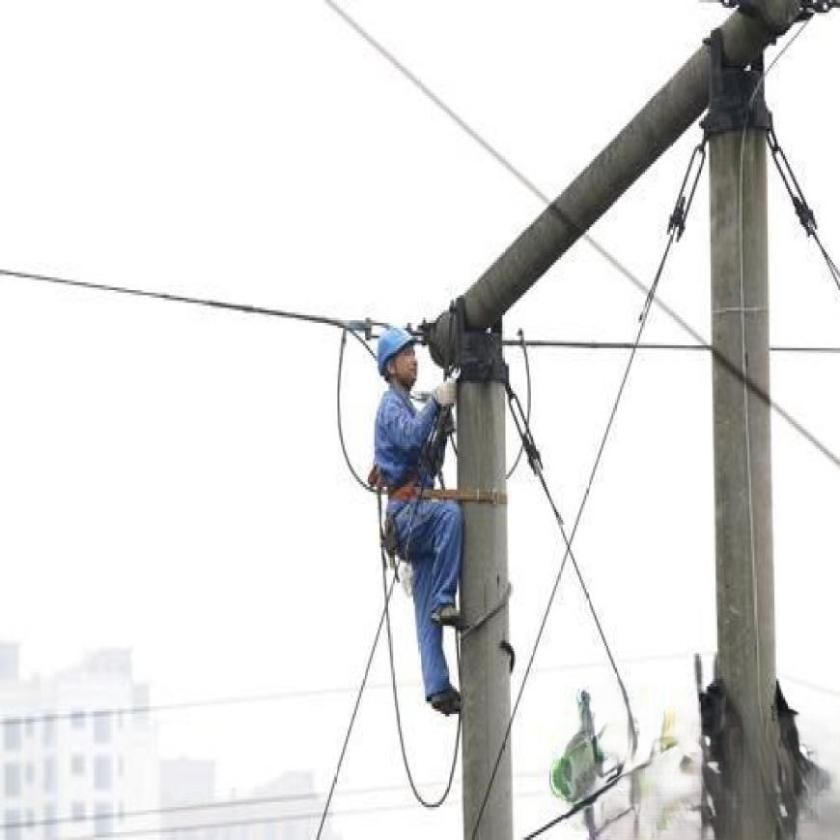Con_casco: (374, 325, 422, 393)
